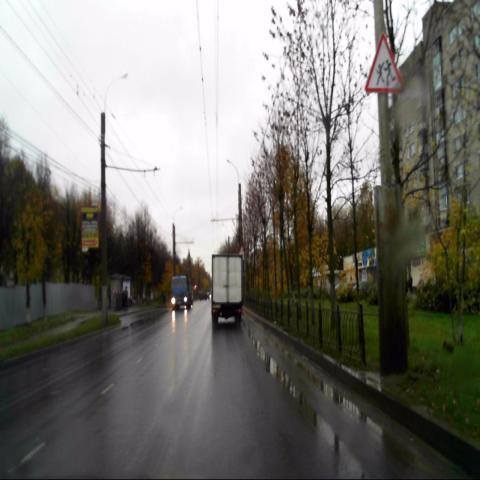1_23: (365, 32, 405, 93)
